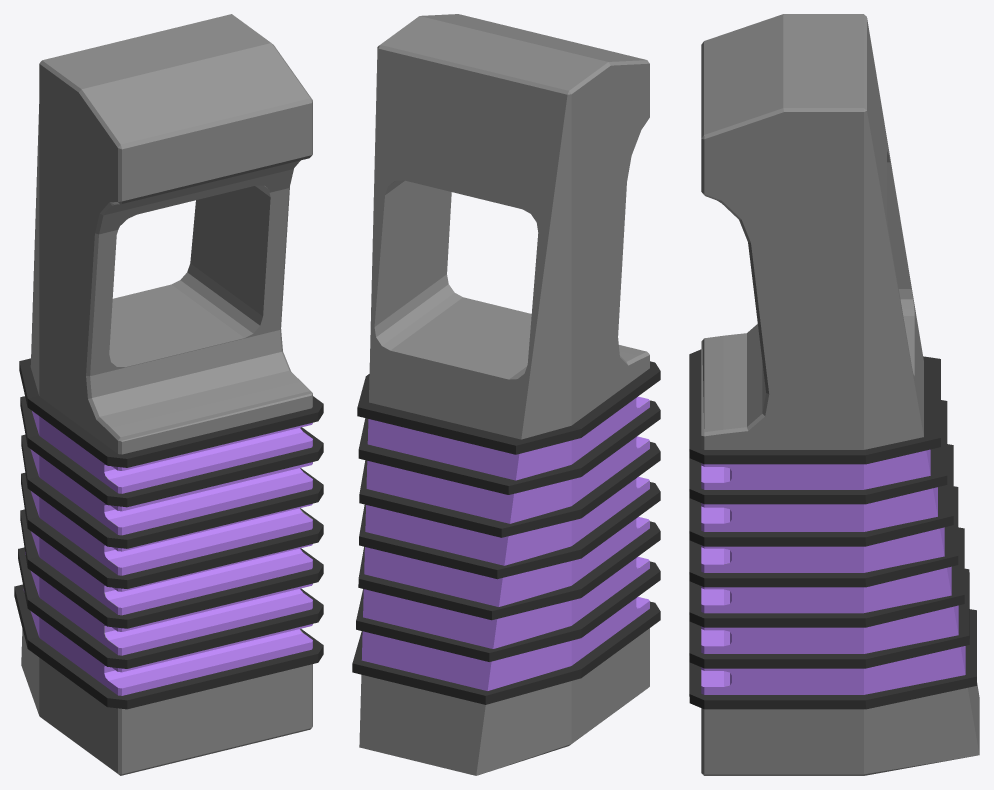
The model's file is башня рома_1.fbx.
The picture shows the model from 3 angles, left to right: view 1: azimuth 30°, elevation 25°; view 2: azimuth 150°, elevation 25°; view 3: azimuth 270°, elevation 25°; orthographic projection.
Parts seen in each view (by area): view 1: Cube, Cube.001; view 2: Cube, Cube.001; view 3: Cube, Cube.001.
Part boxes in pixels (x1,y1,x2,y2): Cube: (21, 14, 312, 775); Cube.001: (14, 358, 323, 709); Cube: (359, 14, 649, 775); Cube.001: (352, 361, 660, 704); Cube: (701, 14, 979, 775); Cube.001: (689, 349, 976, 709).
Size of the model in its own units: 8.14 by 23.63 by 9.3.
